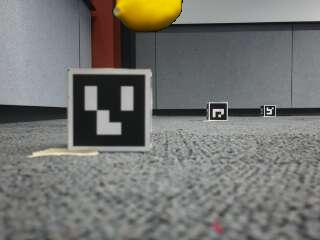lemon: (114, 0, 182, 32)
